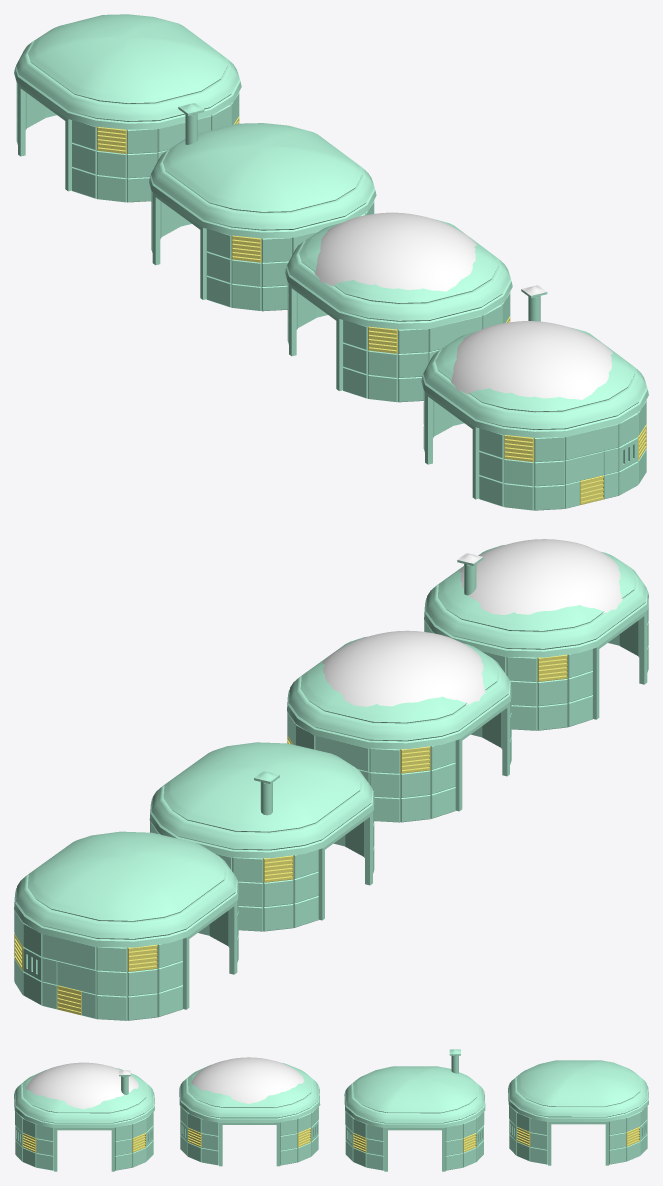
The model's file is igluzoes.fbx.
3 views of the same model, one above another, from view 1: azimuth 30°, elevation 25°; view 2: azimuth 150°, elevation 25°; view 3: azimuth 270°, elevation 25° (orthographic). The views are drawn at different scales.
Parts seen in each view (by area): view 1: igluglu5, igluglu2, igluglu4, igluglu3; view 2: igluglu4, igluglu2, igluglu5, igluglu3; view 3: igluglu3, igluglu5, igluglu2, igluglu4.
Boxes of the visible parts, <box> form: igluglu5: <box>421,285,648,510</box>; igluglu2: <box>285,212,512,402</box>; igluglu4: <box>14,14,241,202</box>; igluglu3: <box>149,103,376,311</box>; igluglu4: <box>14,831,238,1020</box>; igluglu2: <box>287,630,511,822</box>; igluglu5: <box>424,539,648,730</box>; igluglu3: <box>149,742,374,931</box>; igluglu3: <box>344,1049,485,1171</box>; igluglu5: <box>14,1062,154,1171</box>; igluglu2: <box>179,1057,320,1166</box>; igluglu4: <box>508,1060,648,1165</box>.
Size of the model in its own units: 1047 by 824 by 5505.
